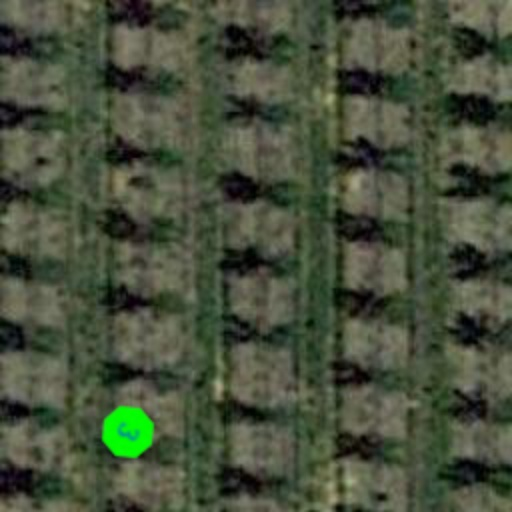octagon: (90, 394, 166, 470)
